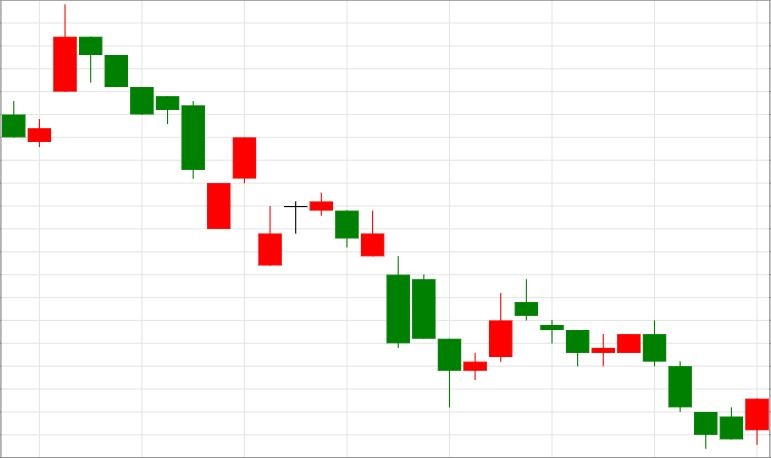hanging_man_fall: (284, 192, 460, 406)
morning_star_rise: (284, 192, 512, 407)
